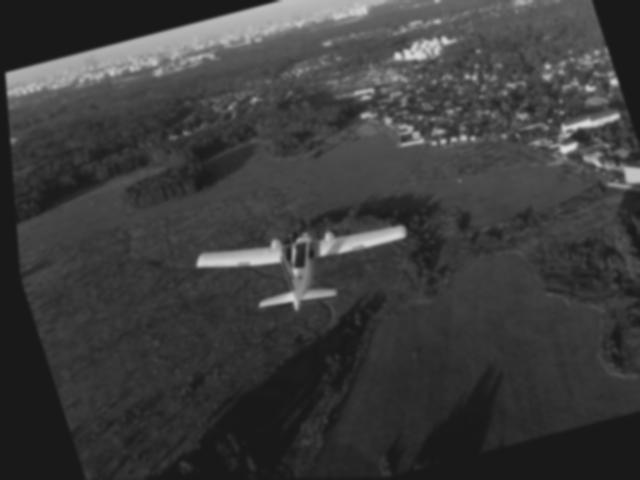hedef: (179, 193, 434, 344)
